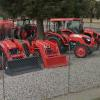Tractor: (15, 11, 100, 67)
